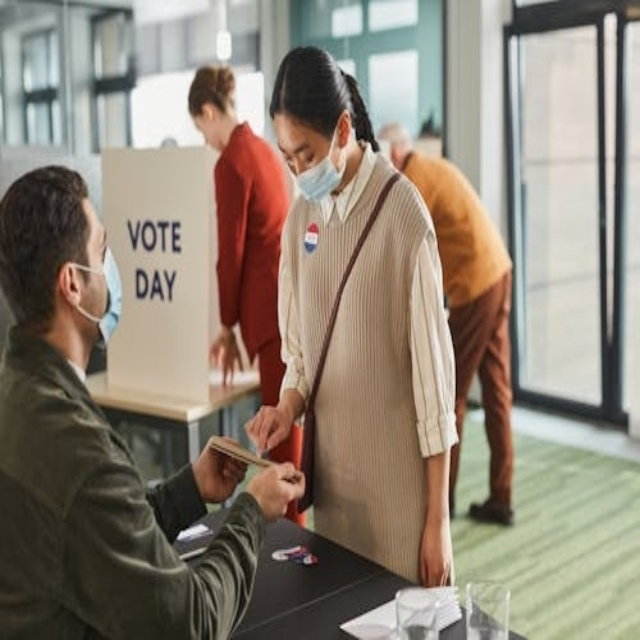Mascara: (74, 242, 132, 346), (288, 133, 346, 208)
Sin_gafas: (78, 215, 114, 271), (274, 131, 317, 173)
Sin_guantes: (247, 454, 308, 523), (196, 427, 247, 502), (416, 509, 460, 586), (209, 329, 242, 385)
